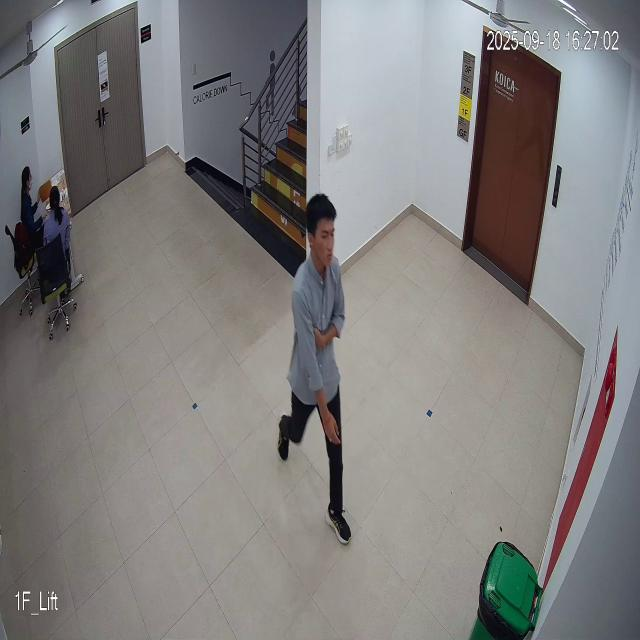face: (307, 192, 337, 272)
